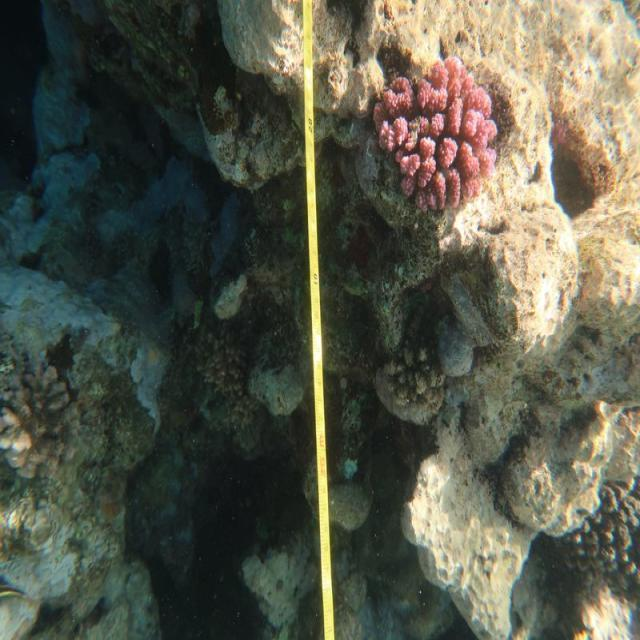Healthy Coral: (366, 49, 504, 216)
